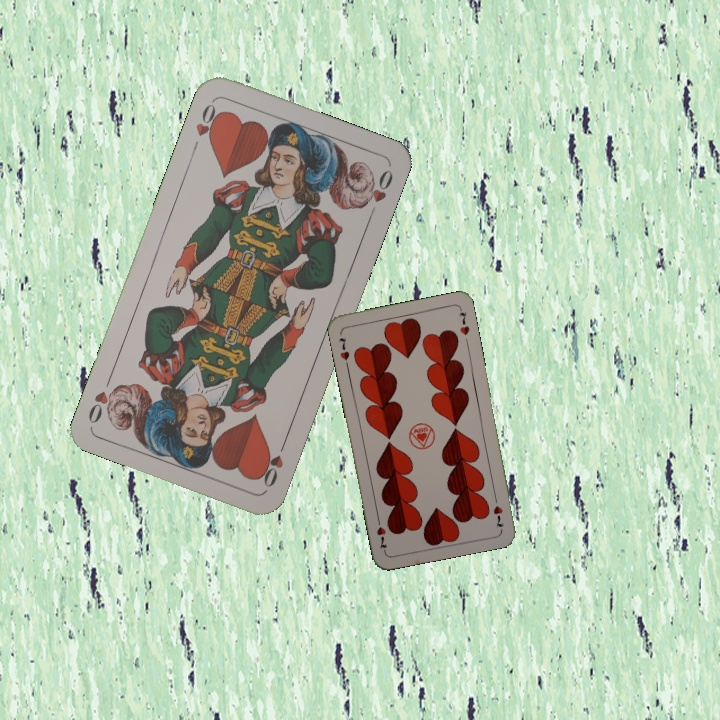H7: (489, 491, 506, 531), (335, 334, 352, 363)
HO: (187, 97, 224, 155), (256, 435, 290, 491)
